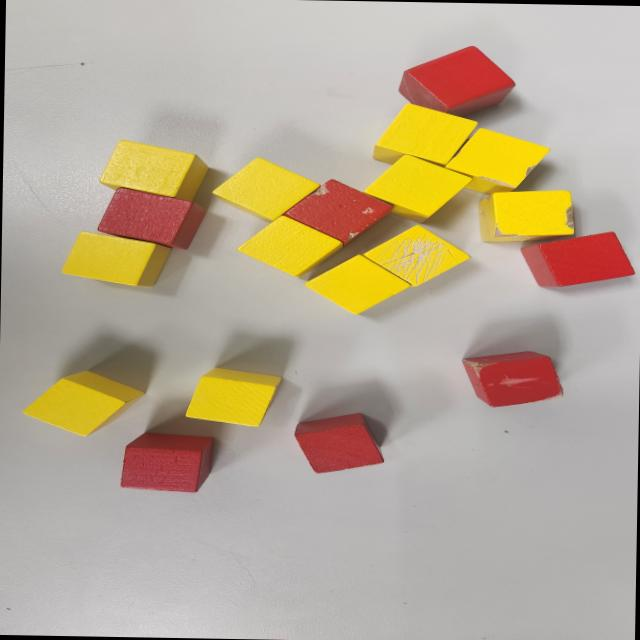broken: (282, 178, 394, 246), (442, 127, 552, 196), (361, 222, 472, 288), (460, 348, 564, 408), (478, 188, 576, 240)
red: (397, 43, 517, 119), (98, 188, 208, 250), (522, 230, 636, 288), (292, 411, 386, 476), (119, 432, 215, 493)
yellow: (20, 368, 146, 438), (361, 151, 474, 225), (210, 155, 321, 224), (236, 212, 344, 280), (370, 102, 480, 167), (303, 251, 412, 316), (99, 140, 210, 200), (61, 230, 171, 286), (183, 366, 283, 426)
